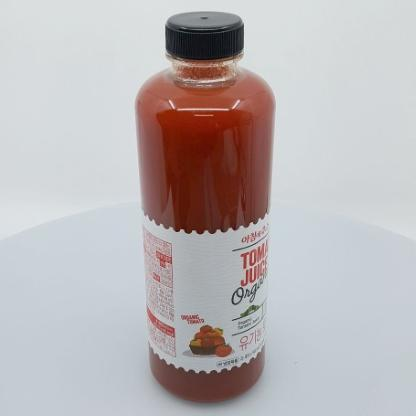-------------------900ML: (135, 11, 276, 405)
